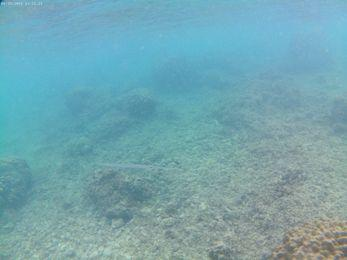Fistularia commersonii: (91, 156, 224, 199)
